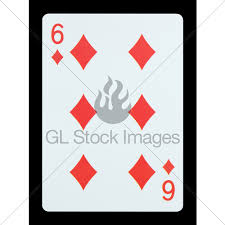six of diamonds: (42, 13, 182, 211)
